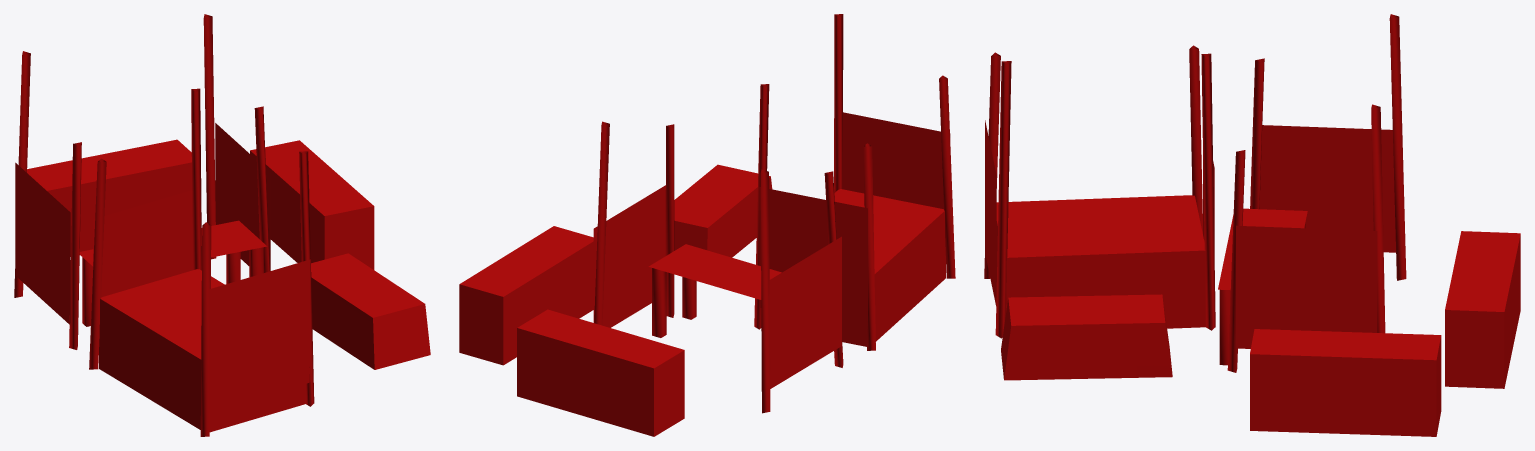
Rendered from n_market_place01_lod0.glb.
3 renders of one model, left to right at view 1: azimuth 30°, elevation 25°; view 2: azimuth 150°, elevation 25°; view 3: azimuth 270°, elevation 25°, orthographic. The views are drawn at different scales.
Parts seen in each view (by area): view 1: MODEL_n_market_place01_lod0; view 2: MODEL_n_market_place01_lod0; view 3: MODEL_n_market_place01_lod0.
Boxes of the visible parts, x1,y1,x2,y2 form: MODEL_n_market_place01_lod0: (14, 14, 430, 436); MODEL_n_market_place01_lod0: (459, 14, 955, 436); MODEL_n_market_place01_lod0: (984, 14, 1520, 436).
Bounding box in the file's own units: 1.29 × 0.9621 × 1.72.
